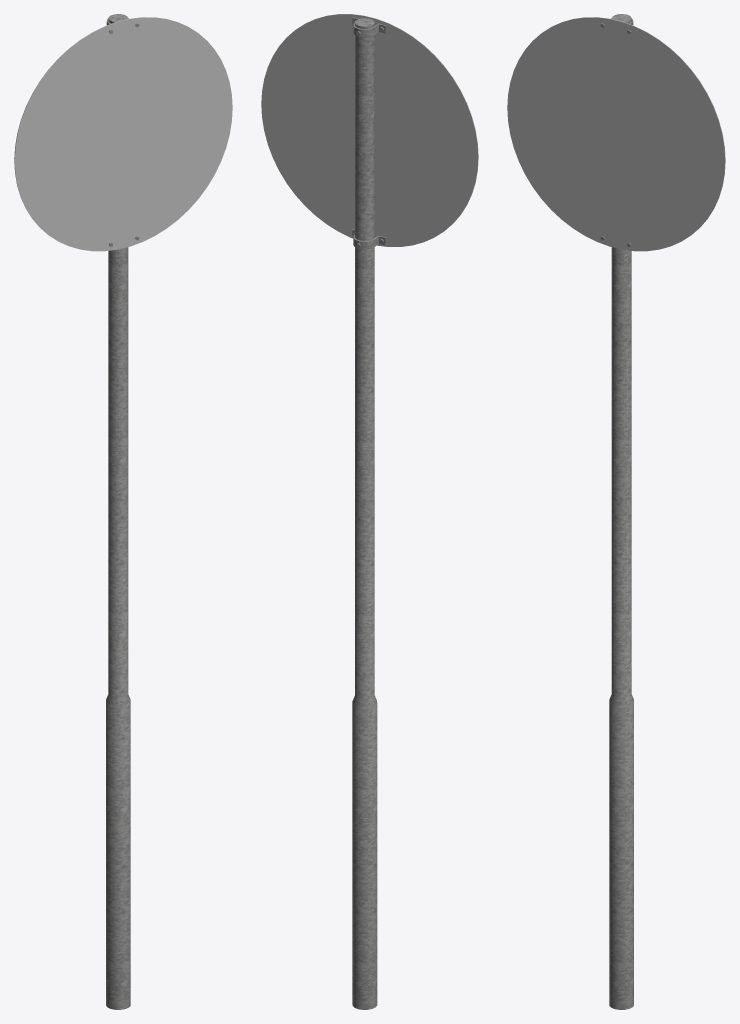
The model's file is Regular Sign.fbx.
The picture shows the model from 3 angles, left to right: view 1: azimuth 30°, elevation 25°; view 2: azimuth 150°, elevation 25°; view 3: azimuth 330°, elevation 25°; orthographic projection.
Visible parts, largest first — view 1: sign-028, mast-028; view 2: sign-028, mast-028; view 3: sign-028, mast-028.
Part boxes in pixels (box(x1,y1,x2,y2)): sign-028: box(14, 17, 232, 251); mast-028: box(106, 14, 130, 1009); sign-028: box(261, 14, 478, 246); mast-028: box(352, 18, 377, 1009); sign-028: box(507, 17, 725, 251); mast-028: box(609, 14, 633, 1009).
Bounding box in the file's own units: 60 × 260 × 6.19.
